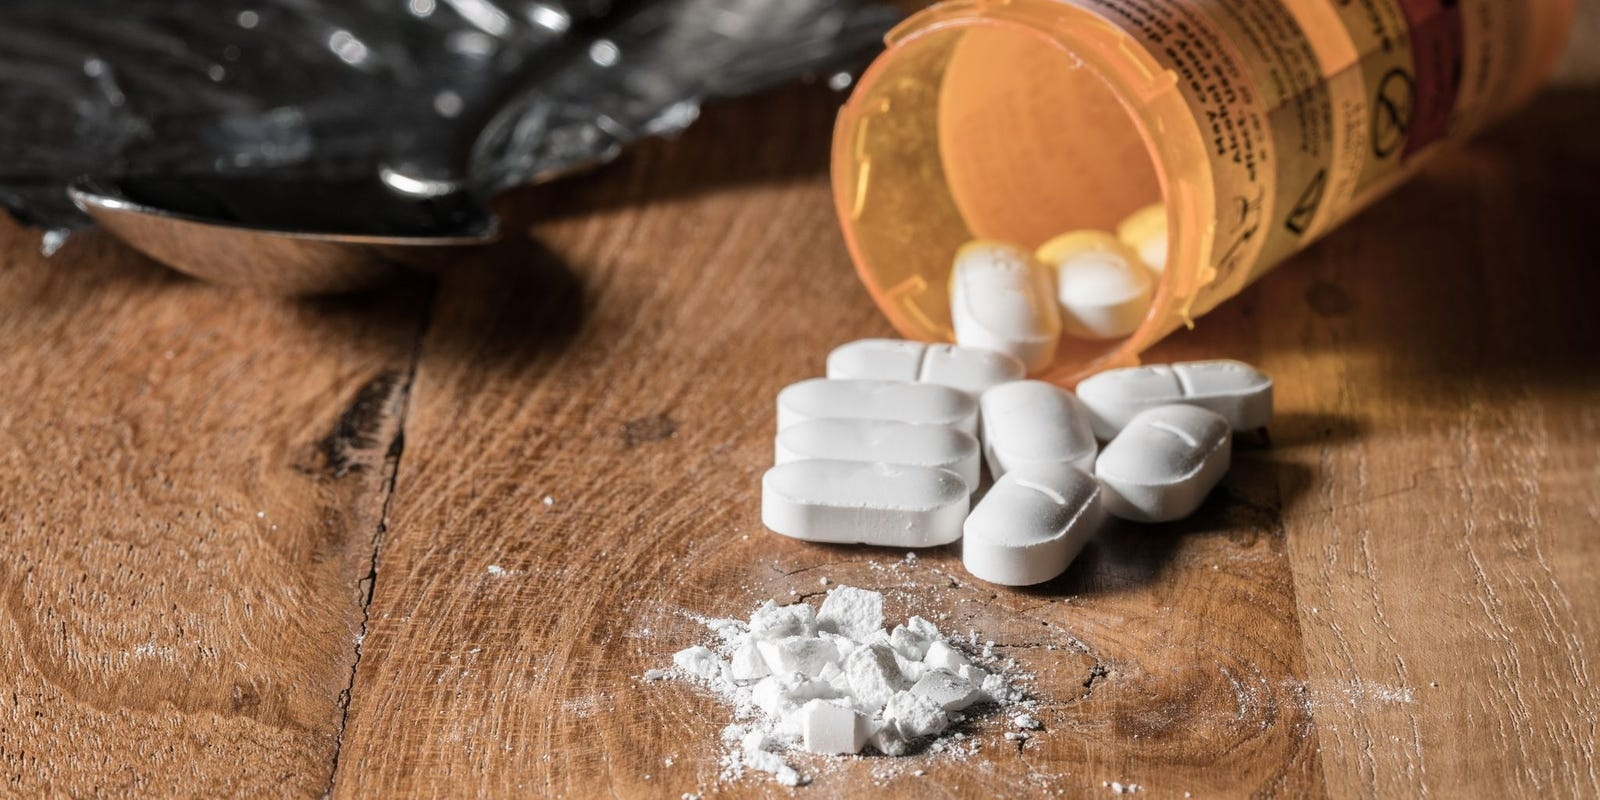pills: (773, 457, 963, 537), (1094, 404, 1227, 517), (964, 471, 1097, 584), (776, 426, 970, 471), (831, 344, 1024, 389), (1091, 367, 1285, 412)
